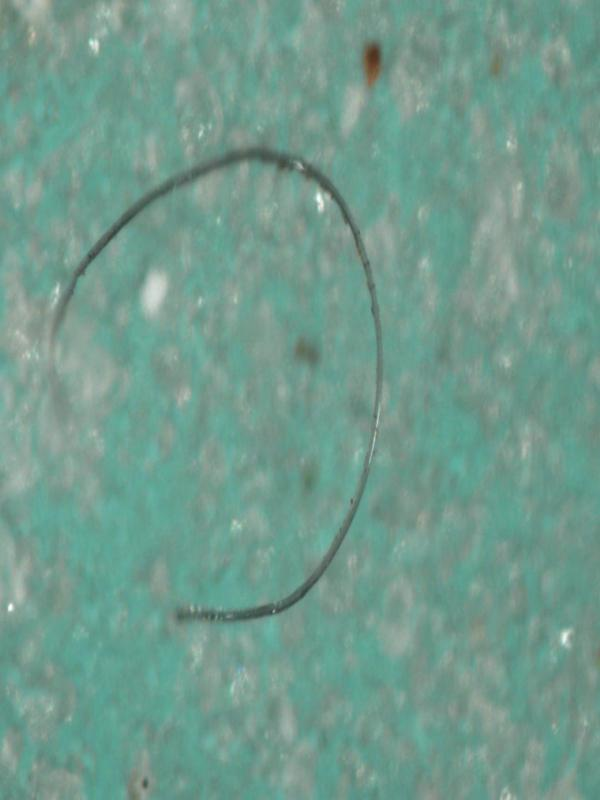microplastic: (46, 143, 384, 625)
